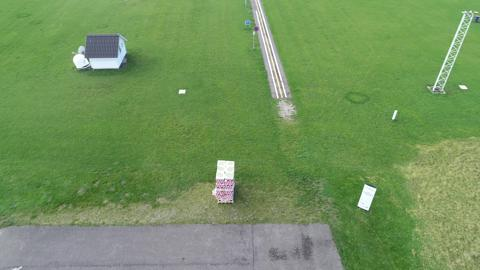RockwoolPallet: (215, 160, 236, 205)
